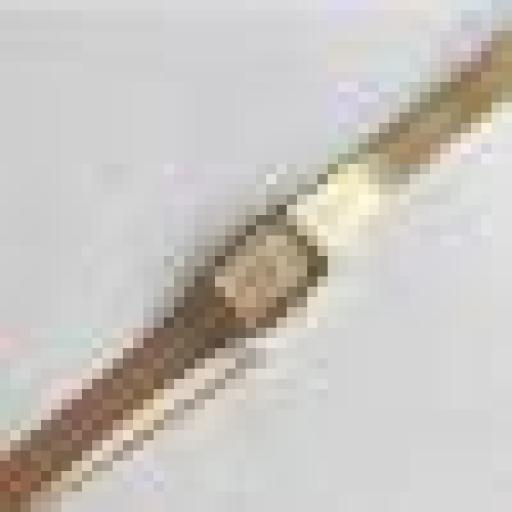KolSaati: (17, 21, 472, 512)
